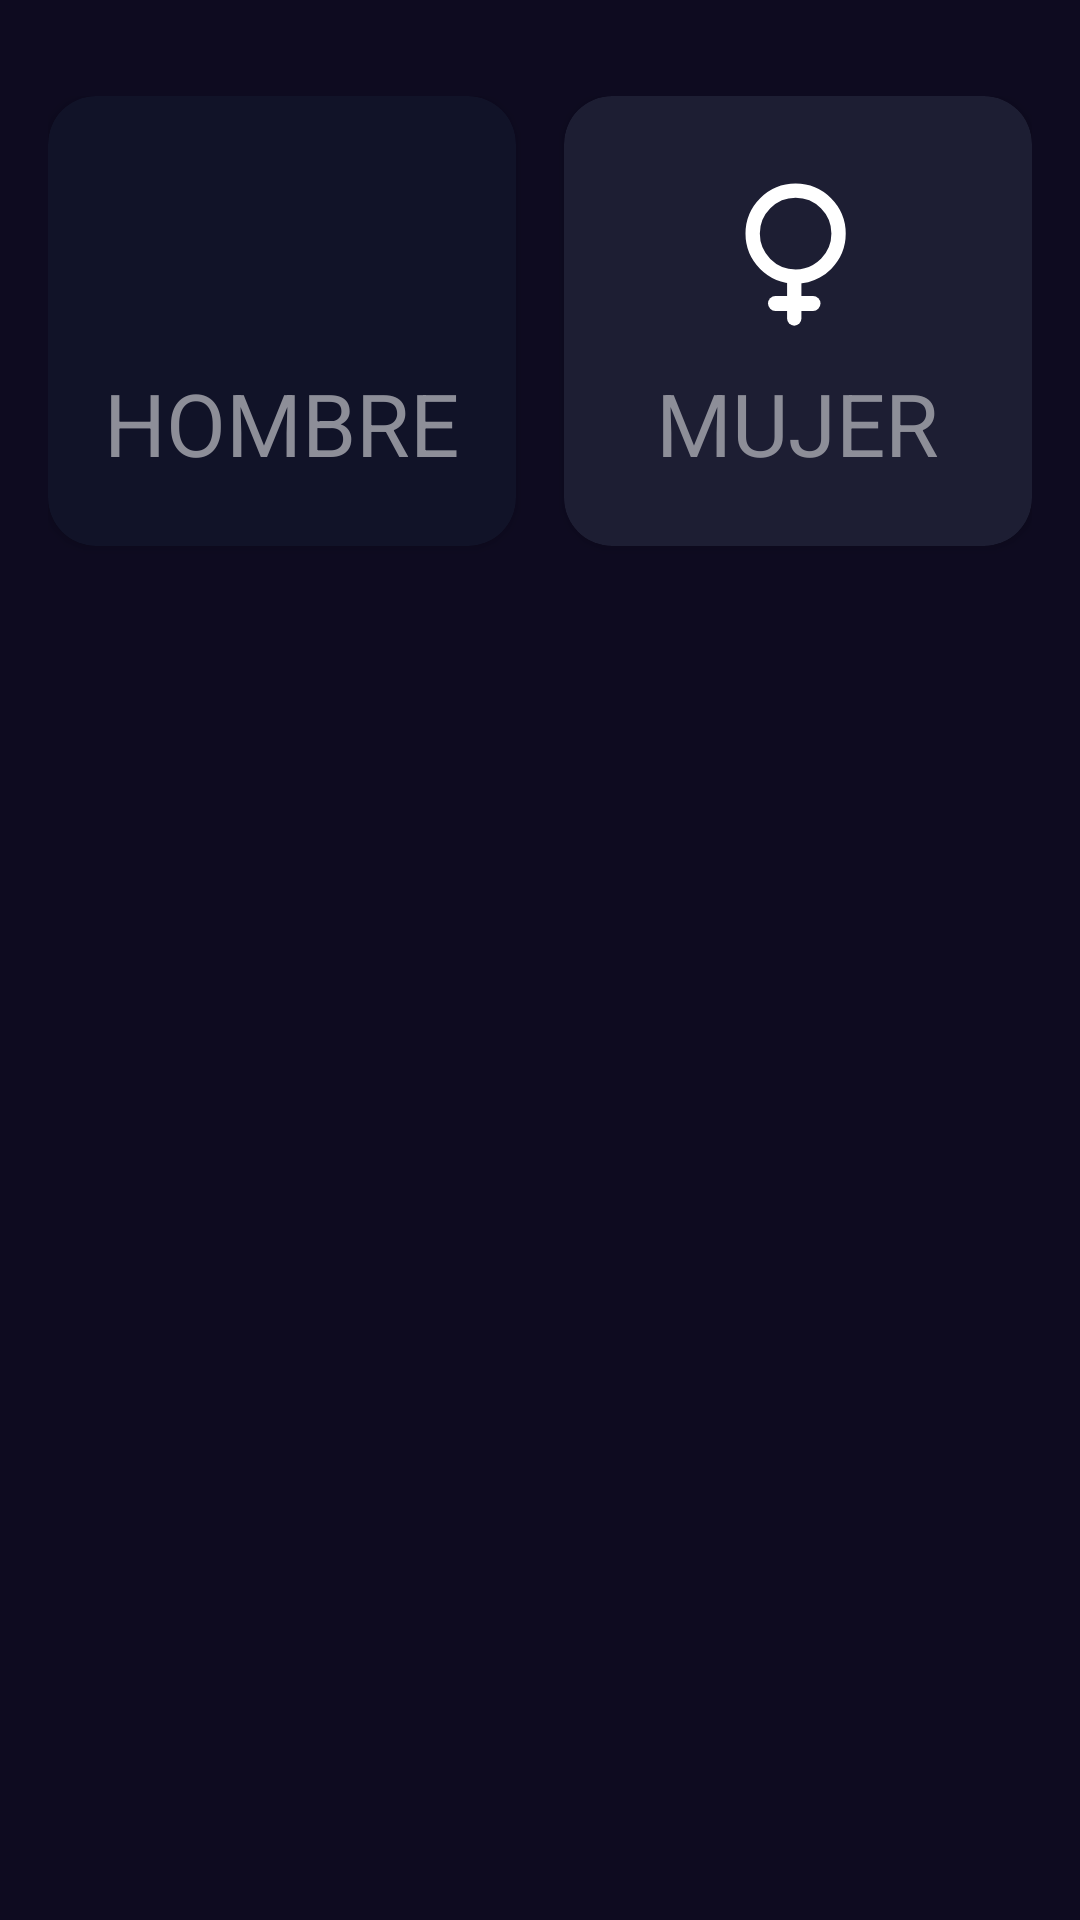

Screen size 1080x1920. Icon name, then its center in pixels as [x,y]:
female: [795,254]
